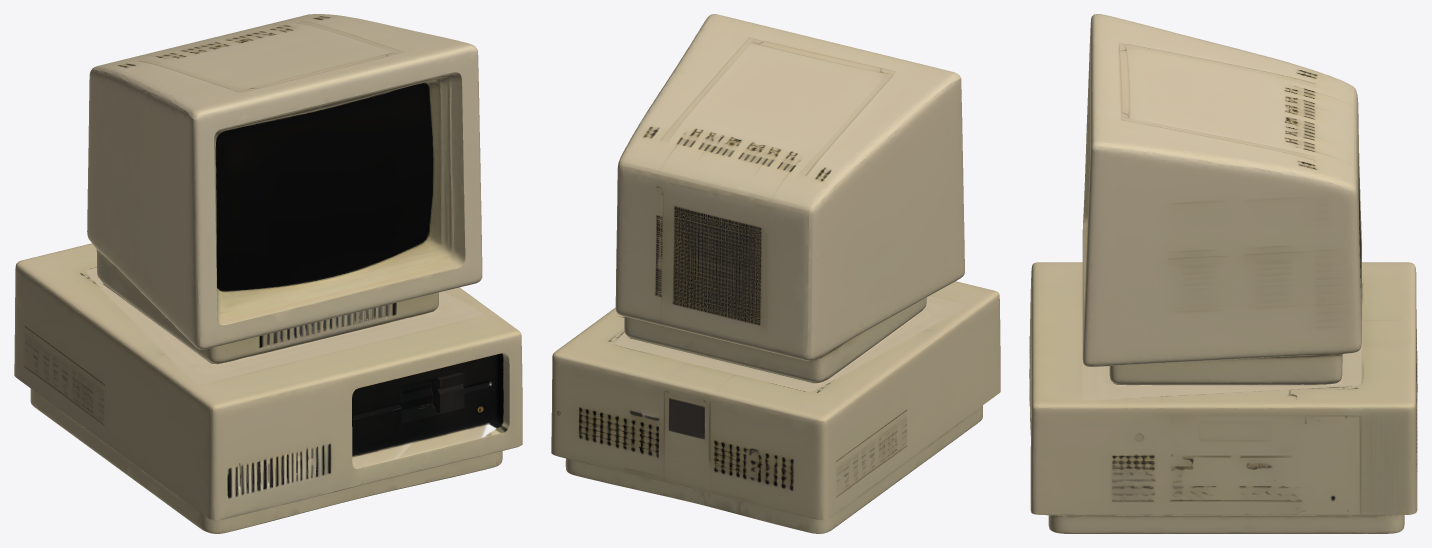
Rendered from 2_pbr.glb.
The picture shows the model from 3 angles, left to right: view 1: azimuth 30°, elevation 25°; view 2: azimuth 150°, elevation 25°; view 3: azimuth 270°, elevation 25°; orthographic projection. The views are drawn at different scales.
Parts seen in each view (by area): view 1: model; view 2: model; view 3: model.
Part boxes in pixels (x1,y1,x2,y2): model: (14, 14, 522, 533); model: (551, 14, 1000, 533); model: (1029, 14, 1417, 533).
Size of the model in its own units: 1.53 by 1.9 by 1.72.
1 material, 1 textured.
